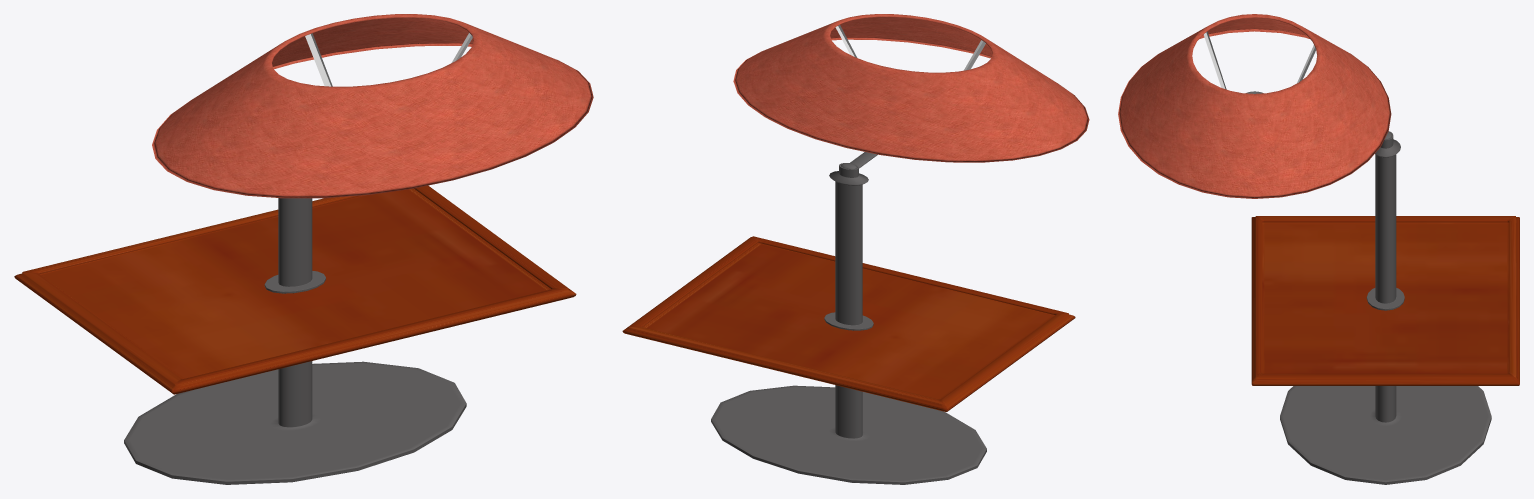
File: sh-scopia-living-lamp.glb
3 views of the same model, side by side, from view 1: azimuth 30°, elevation 25°; view 2: azimuth 150°, elevation 25°; view 3: azimuth 270°, elevation 25° (orthographic). The views are drawn at different scales.
Visible parts, largest first — view 1: littletable.001_Plane.002, shade.001_Circle, bae.001_Cylinder.001; view 2: littletable.001_Plane.002, shade.001_Circle, bae.001_Cylinder.001; view 3: littletable.001_Plane.002, shade.001_Circle, bae.001_Cylinder.001.
Part boxes in pixels (x1,y1,x2,y2): littletable.001_Plane.002: (14, 185, 576, 394); shade.001_Circle: (152, 14, 593, 198); bae.001_Cylinder.001: (124, 198, 466, 484); littletable.001_Plane.002: (622, 236, 1075, 411); shade.001_Circle: (733, 14, 1089, 162); bae.001_Cylinder.001: (711, 152, 986, 484); littletable.001_Plane.002: (1251, 216, 1519, 385); shade.001_Circle: (1118, 14, 1391, 198); bae.001_Cylinder.001: (1280, 131, 1491, 484).
Bounding box in the file's own units: 1 × 1 × 1.
Materials: 5 (2 with a texture image).
